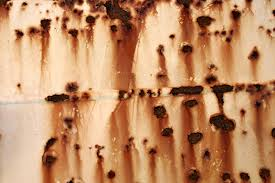rust: (168, 80, 269, 100), (44, 81, 97, 110), (96, 1, 134, 33), (90, 142, 117, 179), (115, 85, 163, 101), (41, 128, 59, 169), (207, 111, 239, 132), (58, 15, 79, 40), (192, 12, 218, 30), (37, 14, 53, 37), (183, 166, 203, 183), (228, 3, 244, 24), (176, 39, 196, 55), (150, 104, 169, 120), (188, 130, 204, 146), (245, 46, 260, 63), (237, 168, 254, 183), (218, 168, 233, 183), (83, 11, 97, 27), (258, 165, 272, 180)
